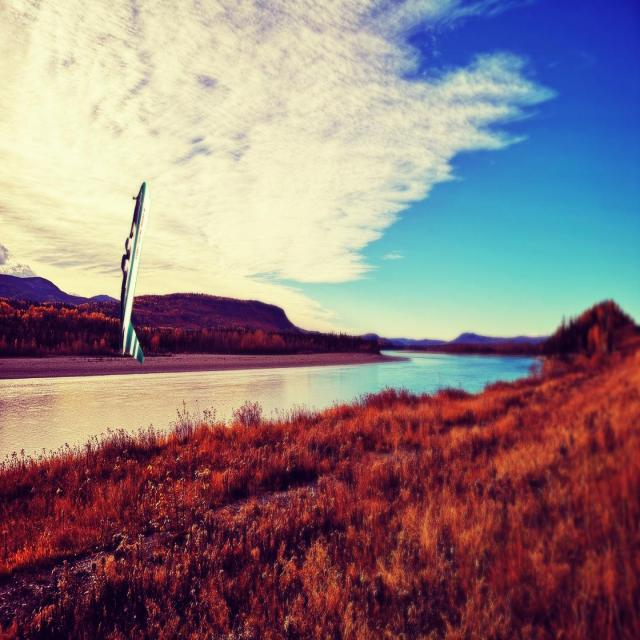airplane: (119, 181, 150, 364)
